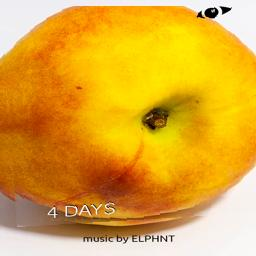Peach Fresh: (2, 7, 256, 228)
